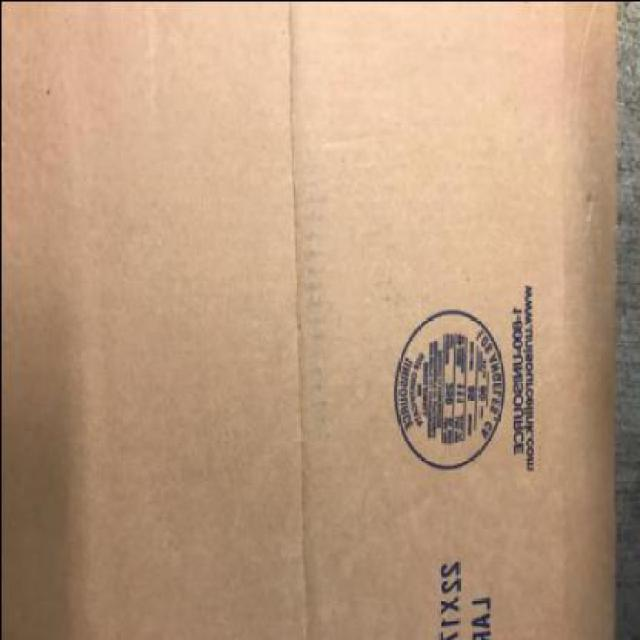CARDBOARD: (1, 1, 618, 638)
